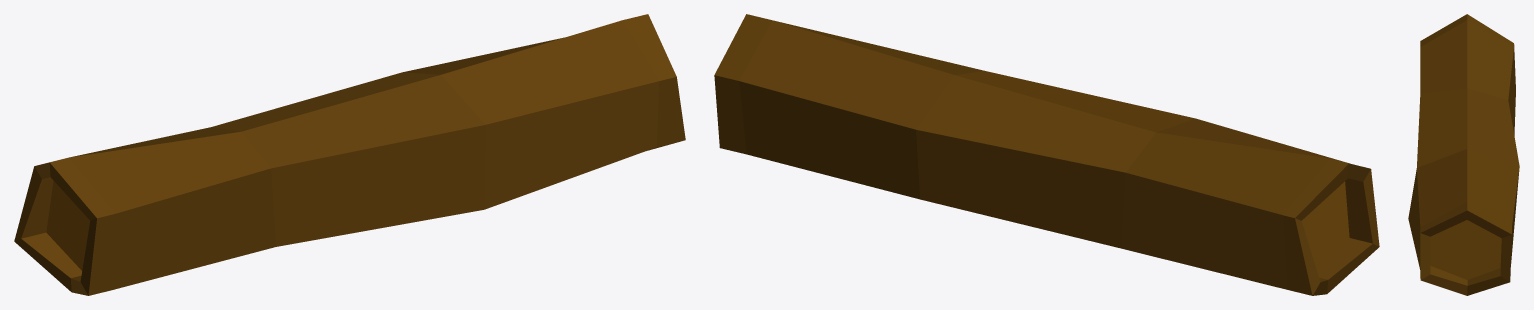
The model's file is Log Bench 5.fbx.
3 views of the same model, side by side, from view 1: azimuth 30°, elevation 25°; view 2: azimuth 150°, elevation 25°; view 3: azimuth 270°, elevation 25° (orthographic). The views are drawn at different scales.
Parts seen in each view (by area): view 1: Bench 3; view 2: Bench 3; view 3: Bench 3.
Part boxes in pixels (x1=…): Bench 3: x1=14, y1=14, x2=685, y2=295; Bench 3: x1=714, y1=14, x2=1379, y2=295; Bench 3: x1=1408, y1=14, x2=1519, y2=295.
Size of the model in its own units: 870 by 195 by 206.
